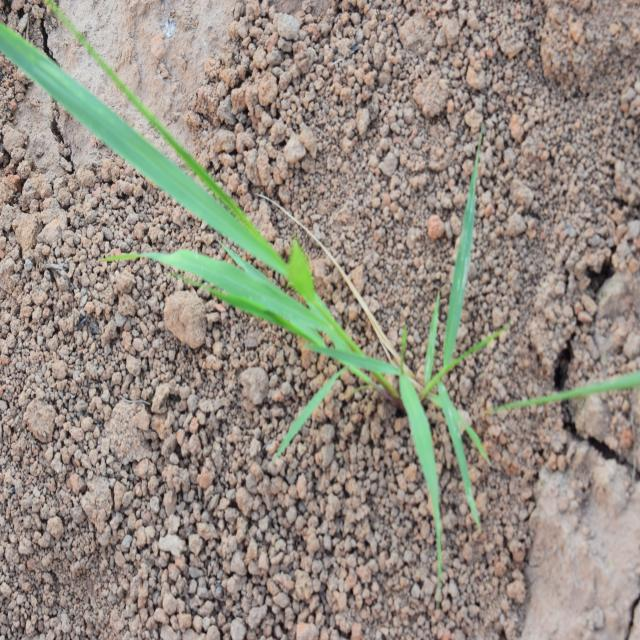green_foxtail: (134, 117, 520, 532)
